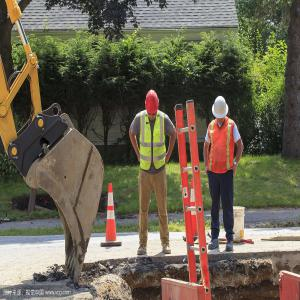red: (145, 88, 161, 121)
white: (211, 93, 230, 126)
